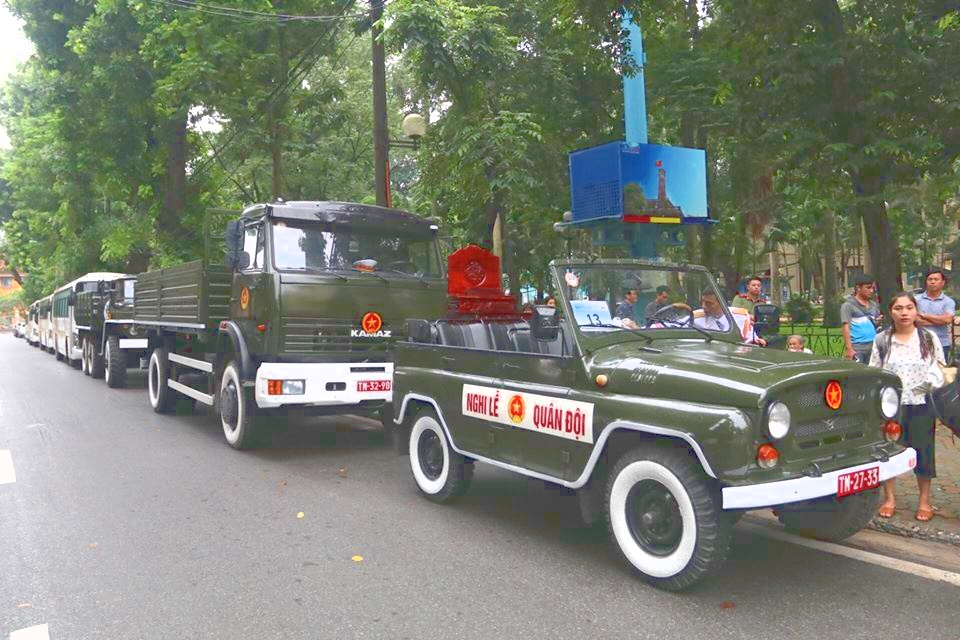plate: (831, 462, 882, 502), (356, 377, 399, 399)
